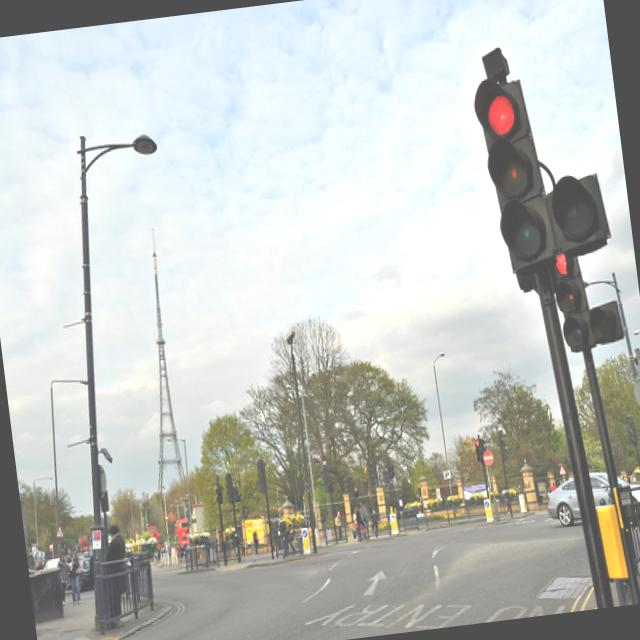Vehicle: (543, 464, 640, 529), (43, 556, 73, 572)
